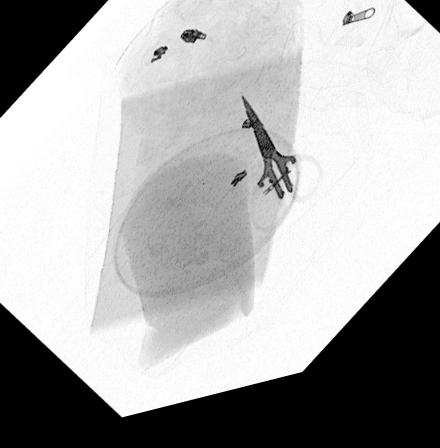Scissors: (238, 107, 325, 248)
